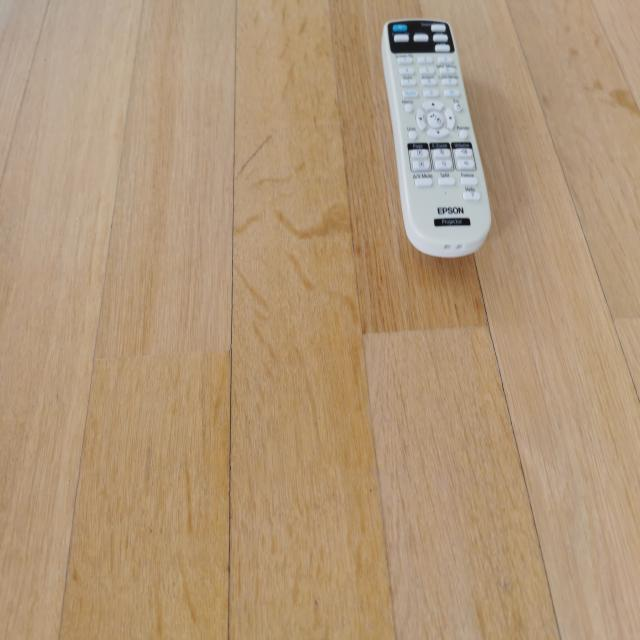remote: (382, 16, 498, 258)
